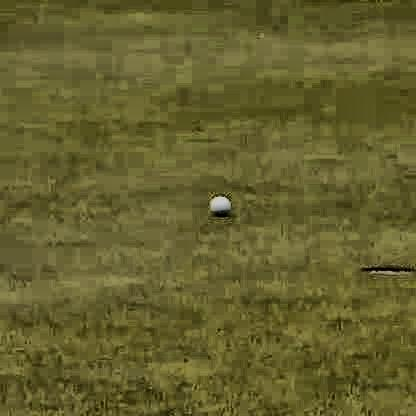golfball: (205, 192, 228, 215)
